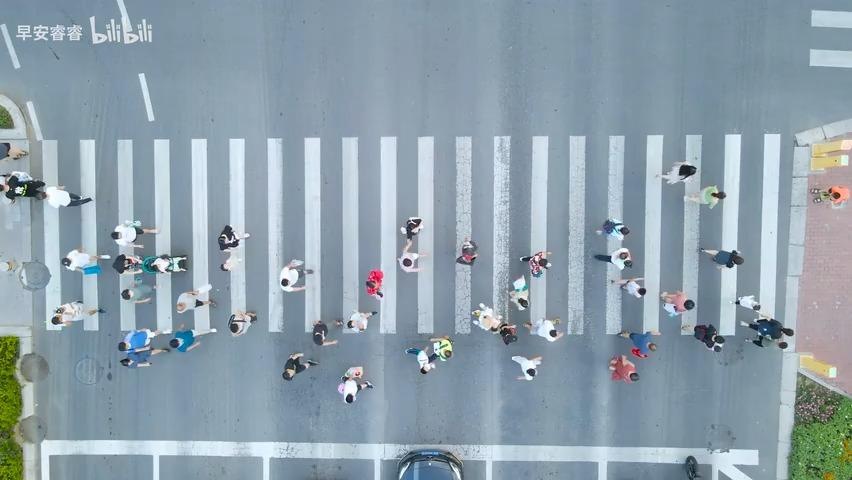Civilian: (0, 170, 92, 208), (117, 327, 170, 367), (404, 334, 454, 374), (740, 312, 793, 348), (51, 300, 105, 326), (110, 219, 160, 246), (60, 248, 110, 274), (337, 369, 373, 403), (175, 284, 217, 313), (617, 330, 660, 358), (279, 258, 313, 292), (683, 184, 726, 209), (522, 316, 563, 342), (396, 239, 427, 273), (282, 352, 319, 380), (654, 161, 697, 185), (698, 247, 744, 269), (471, 302, 503, 332), (168, 323, 201, 352), (334, 309, 377, 331), (120, 278, 156, 304), (693, 323, 725, 352), (607, 354, 639, 383), (404, 345, 437, 373), (660, 290, 694, 317), (144, 253, 187, 274), (593, 247, 632, 270), (519, 250, 552, 277), (399, 216, 423, 252), (217, 224, 250, 250), (227, 309, 257, 336), (511, 354, 542, 380), (810, 185, 850, 205), (507, 274, 529, 310), (595, 217, 629, 240), (610, 277, 646, 298), (311, 319, 338, 346), (428, 334, 454, 361), (455, 235, 478, 264), (112, 253, 143, 274), (219, 248, 243, 271), (0, 141, 28, 160), (365, 269, 383, 298), (730, 294, 760, 311), (497, 322, 517, 345)
